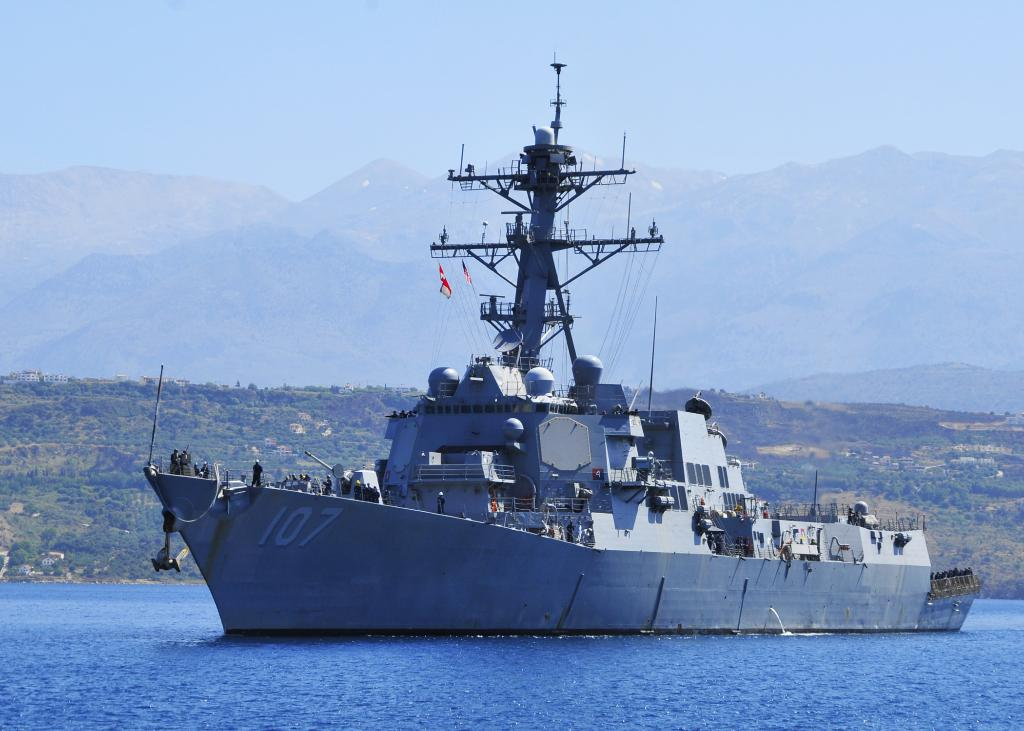Warship: (132, 42, 984, 646)
